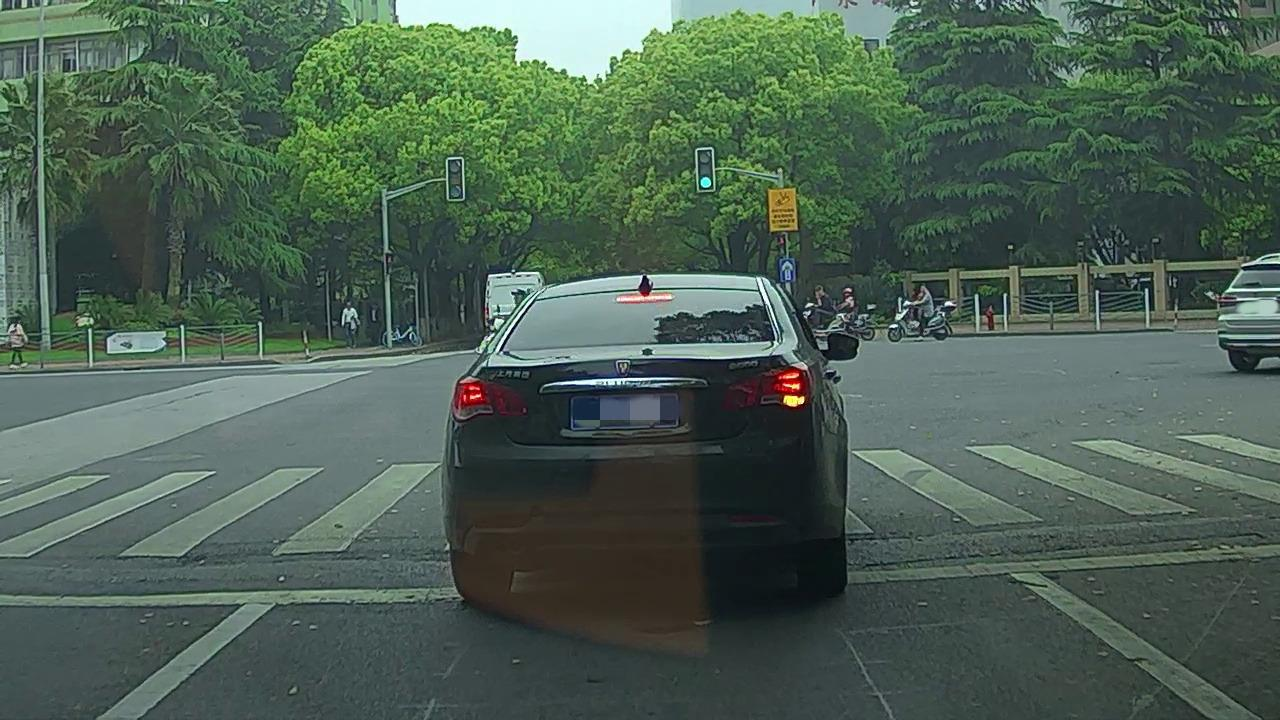traffic_light: (697, 149, 714, 191), (447, 158, 464, 199)
